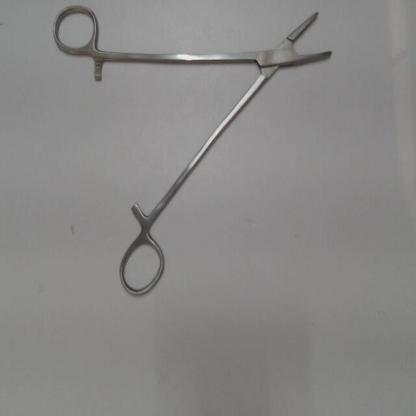8 Mayo Needle Holder: (47, 0, 348, 305)
